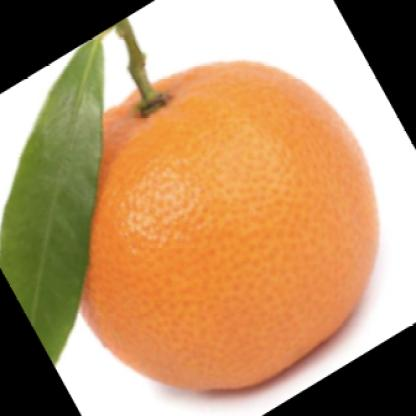fresh: (68, 61, 377, 393)
